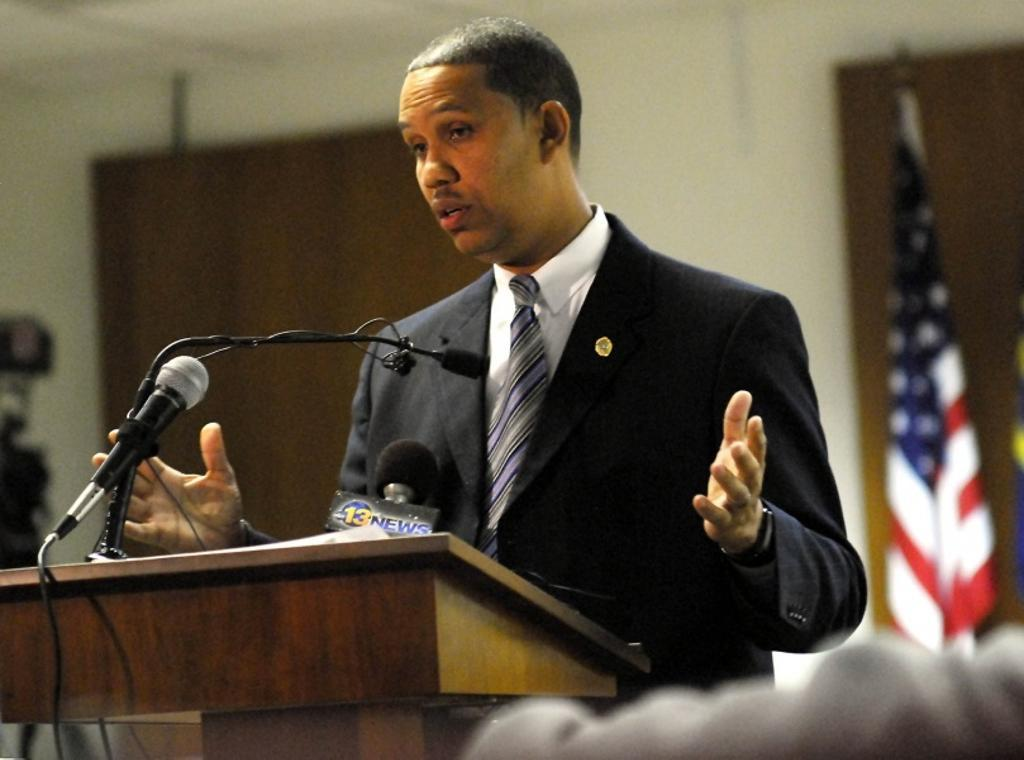face: (401, 71, 545, 255)
